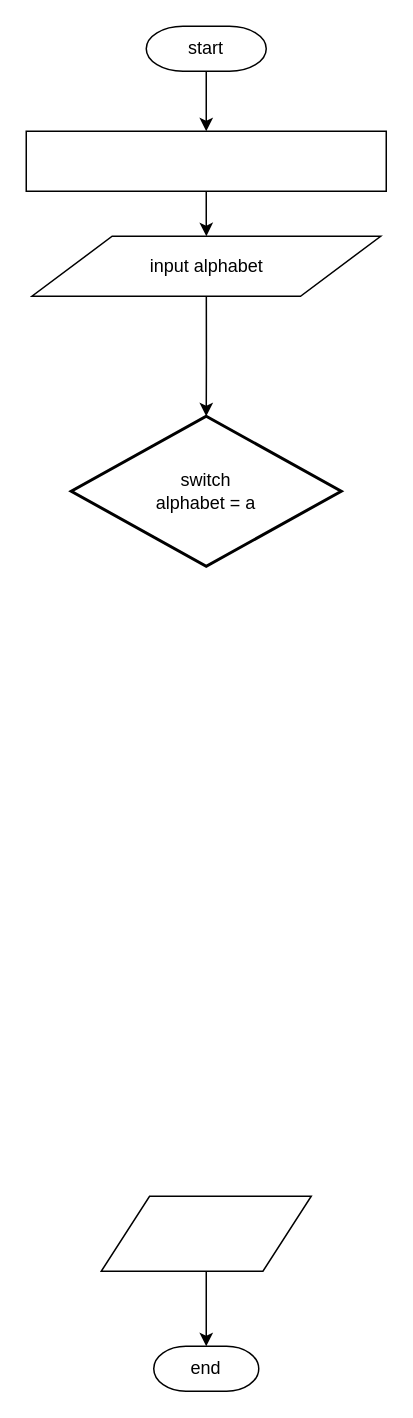
The diagram is 413 pixels wide and 1418 high, and some of its shapes have lost their labels. Here are the shapes that lost their labels. From the top down, the centre of each, then its label:
At point (205, 160): "initialization alphabet, isVocal".
At point (205, 1233): "output table".
